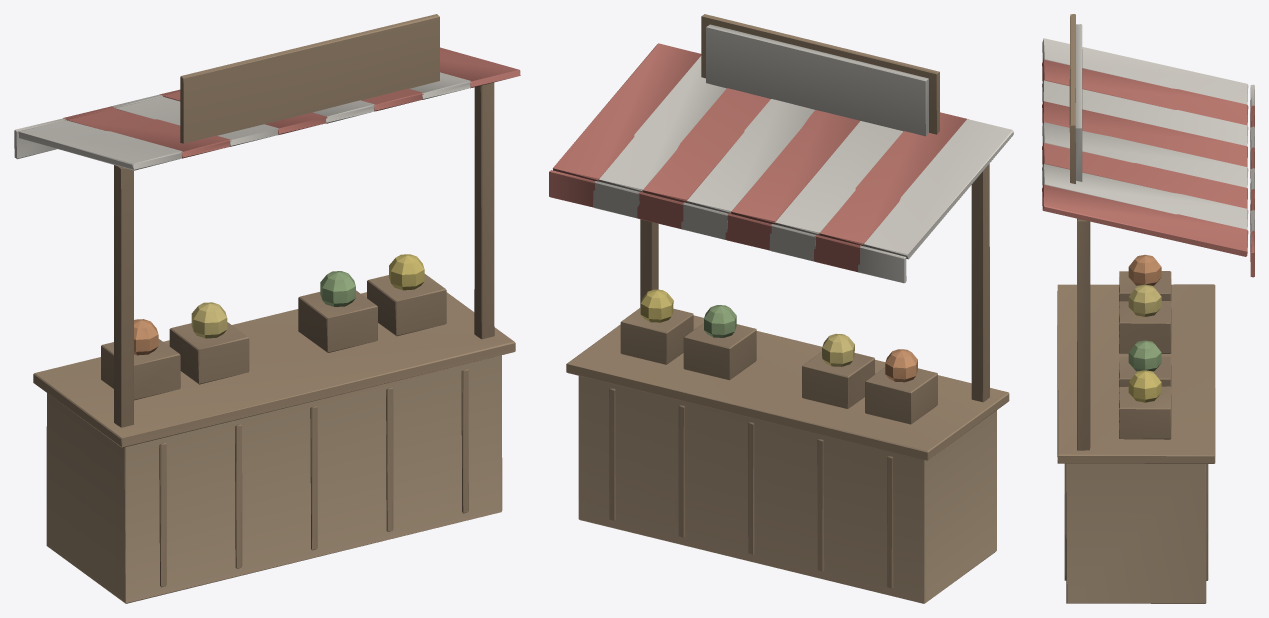
Rendered from event_stall_low.glb.
3 renders of one model, left to right at view 1: azimuth 30°, elevation 25°; view 2: azimuth 150°, elevation 25°; view 3: azimuth 270°, elevation 25°, orthographic. The views are drawn at different scales.
Bounding box in the file's own units: 2.3 × 2.84 × 1.21.
